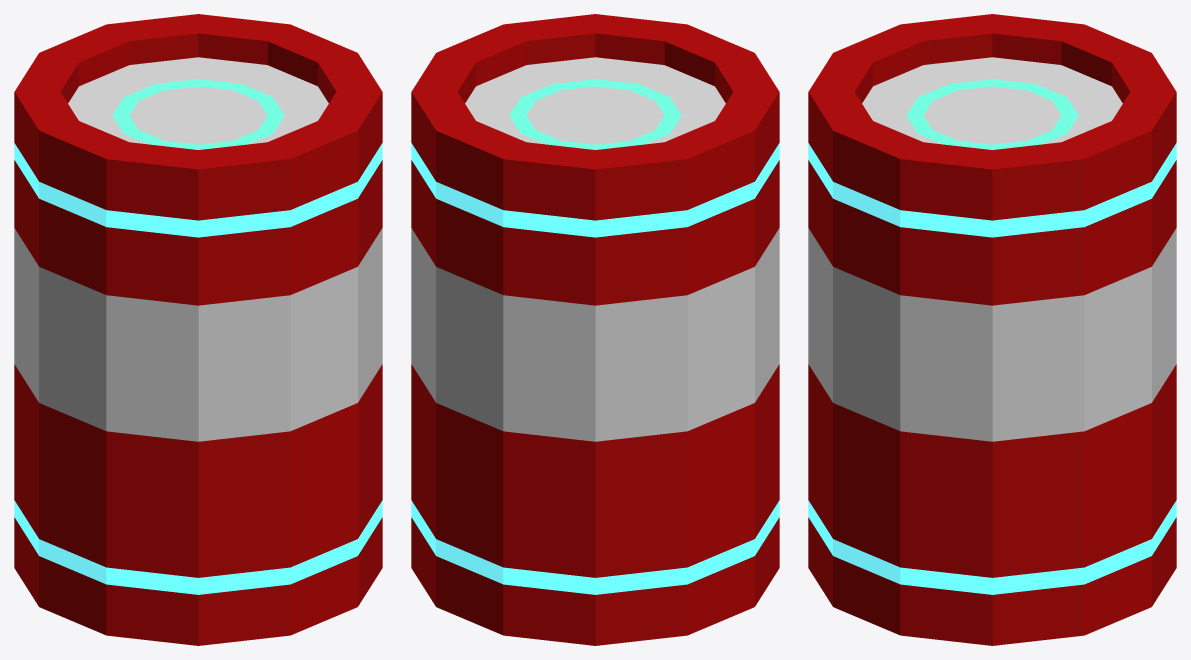
File: ExplosiveBarrel 1.fbx
3 renders of one model, left to right at view 1: azimuth 30°, elevation 25°; view 2: azimuth 150°, elevation 25°; view 3: azimuth 270°, elevation 25°, orthographic.
Visible parts, largest first — view 1: Barrel; view 2: Barrel; view 3: Barrel.
Boxes of the visible parts, left/top/right/bottom form: Barrel: left=14, top=14, right=382, bottom=645; Barrel: left=411, top=14, right=779, bottom=645; Barrel: left=808, top=14, right=1176, bottom=645.
Size of the model in its own units: 70 by 100 by 70.
